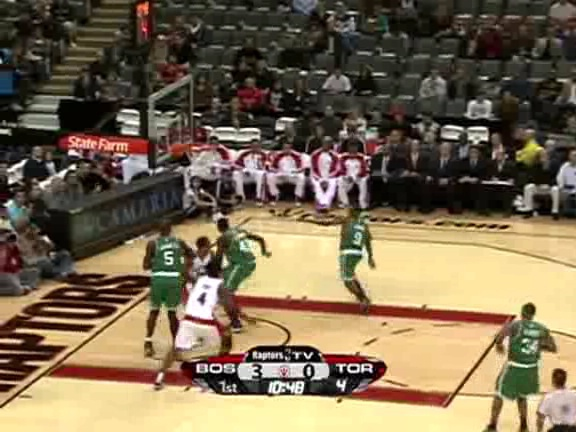person: (339, 208, 373, 289), (338, 208, 372, 289), (340, 208, 374, 289), (339, 207, 373, 288), (339, 209, 373, 290)
target_negative: (192, 143, 461, 315), (77, 305, 335, 389), (400, 267, 575, 377), (382, 373, 503, 426), (512, 105, 527, 156), (261, 412, 347, 420)
